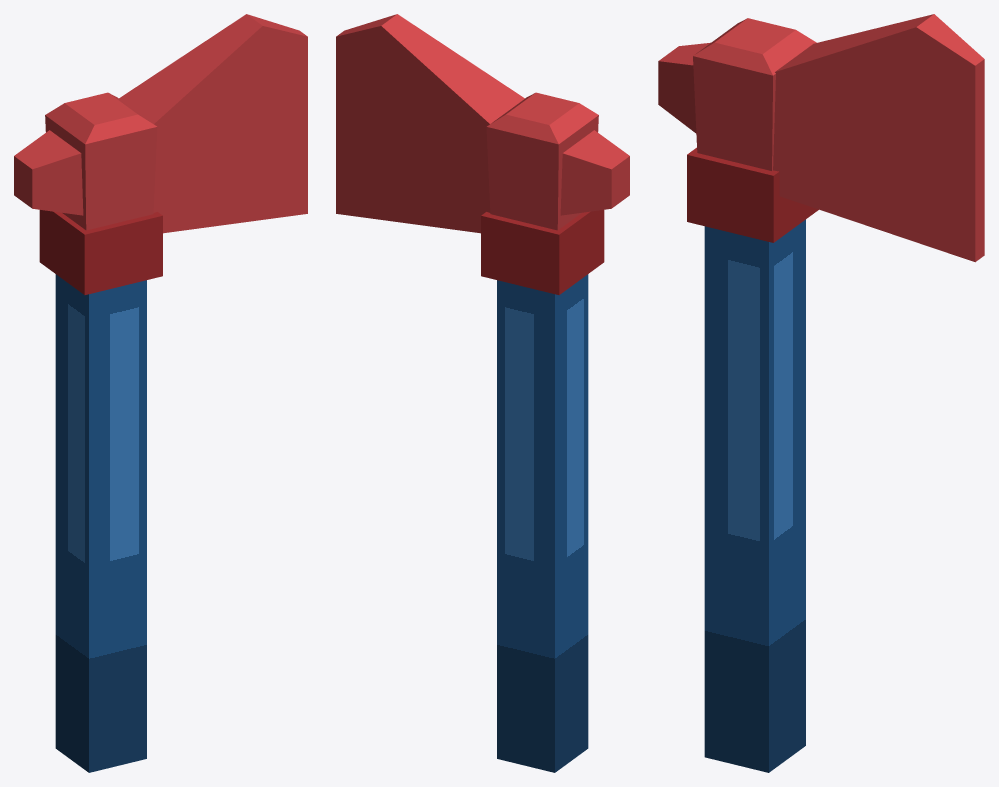
The model's file is coral_axe.obj.
3 views of the same model, side by side, from view 1: azimuth 30°, elevation 25°; view 2: azimuth 150°, elevation 25°; view 3: azimuth 330°, elevation 25° (orthographic). The views are drawn at different scales.
Visible parts, largest first — view 1: shaft, flared_coral_cutting_wedge, seated_coral_axe_eye, socket, short_coral_poll; view 2: shaft, flared_coral_cutting_wedge, seated_coral_axe_eye, socket, short_coral_poll; view 3: shaft, flared_coral_cutting_wedge, seated_coral_axe_eye, socket, short_coral_poll.
Part boxes in pixels (x1,y1,x2,y2): shaft: [55, 274, 146, 772]; flared_coral_cutting_wedge: [119, 14, 307, 233]; seated_coral_axe_eye: [45, 92, 157, 230]; socket: [39, 210, 162, 294]; short_coral_poll: [14, 130, 83, 215]; shaft: [497, 274, 588, 772]; flared_coral_cutting_wedge: [336, 14, 524, 233]; seated_coral_axe_eye: [486, 92, 598, 230]; socket: [481, 210, 604, 294]; short_coral_poll: [560, 130, 629, 215]; shaft: [704, 219, 805, 772]; flared_coral_cutting_wedge: [773, 14, 984, 262]; seated_coral_axe_eye: [693, 18, 816, 170]; socket: [687, 147, 818, 242]; short_coral_poll: [658, 42, 710, 133].
Bounding box in the file's own units: 0.6062 × 1.44 × 0.1688.
